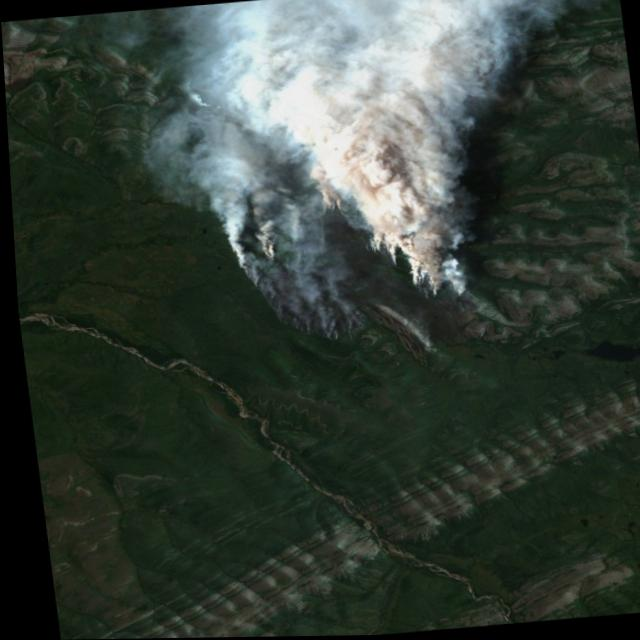fire: (216, 164, 464, 349)
